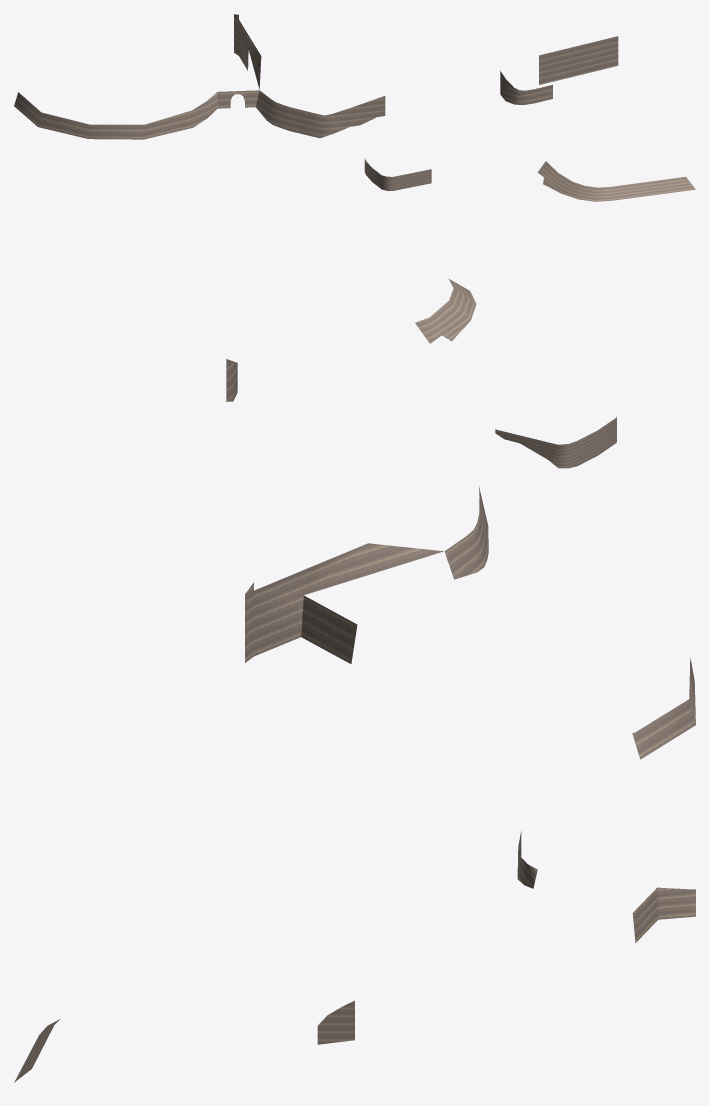
File: kd_stage_1363c5_9_6_bounded.glb
The picture shows the model from 3 angles, top to bottom: view 1: azimuth 30°, elevation 25°; view 2: azimuth 150°, elevation 25°; view 3: azimuth 270°, elevation 25°; orthographic projection. The views are drawn at different scales.
Visible parts, largest first — view 1: kd_stage_1363c5_9_6_bounded; view 2: kd_stage_1363c5_9_6_bounded; view 3: kd_stage_1363c5_9_6_bounded.
Part boxes in pixels (x1,y1,x2,y2): kd_stage_1363c5_9_6_bounded: (14, 14, 695, 201); kd_stage_1363c5_9_6_bounded: (226, 279, 695, 759); kd_stage_1363c5_9_6_bounded: (14, 831, 695, 1082).
Size of the model in its own units: 186 by 17.66 by 172.
Materials: 1 (1 with a texture image).
